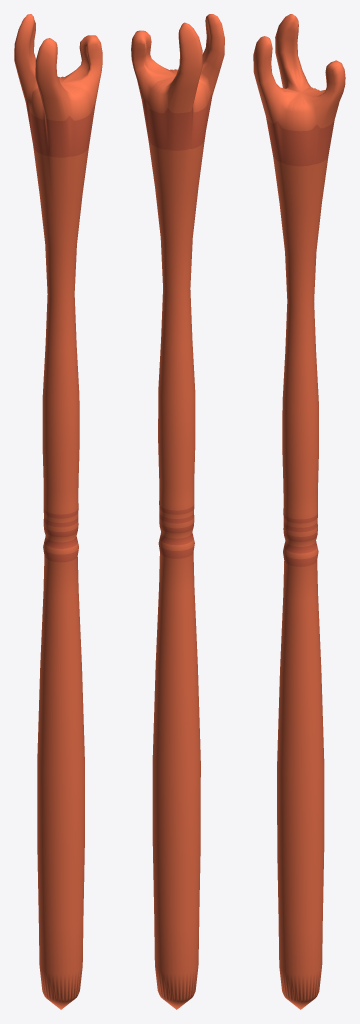
File: Staff.fbx
3 renders of one model, left to right at view 1: azimuth 30°, elevation 25°; view 2: azimuth 150°, elevation 25°; view 3: azimuth 330°, elevation 25°, orthographic.
Visible parts, largest first — view 1: Cylinder; view 2: Cylinder; view 3: Cylinder.
Part boxes in pixels (<box>): Cylinder: <box>14,14,102,1009</box>; Cylinder: <box>131,14,224,1009</box>; Cylinder: <box>253,14,345,1009</box>.
Size of the model in its own units: 277 by 3371 by 209.
